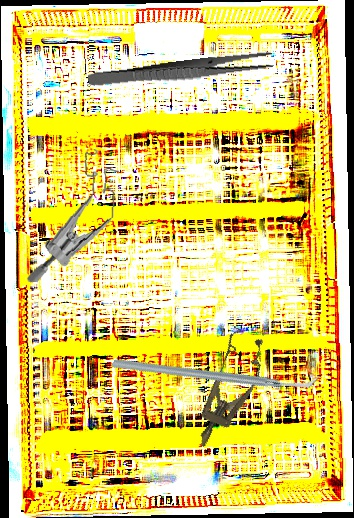Chopper: (110, 283, 322, 461)
Dressing Forceps: (87, 49, 274, 93)
Speculum: (24, 143, 124, 290), (181, 325, 275, 456)
